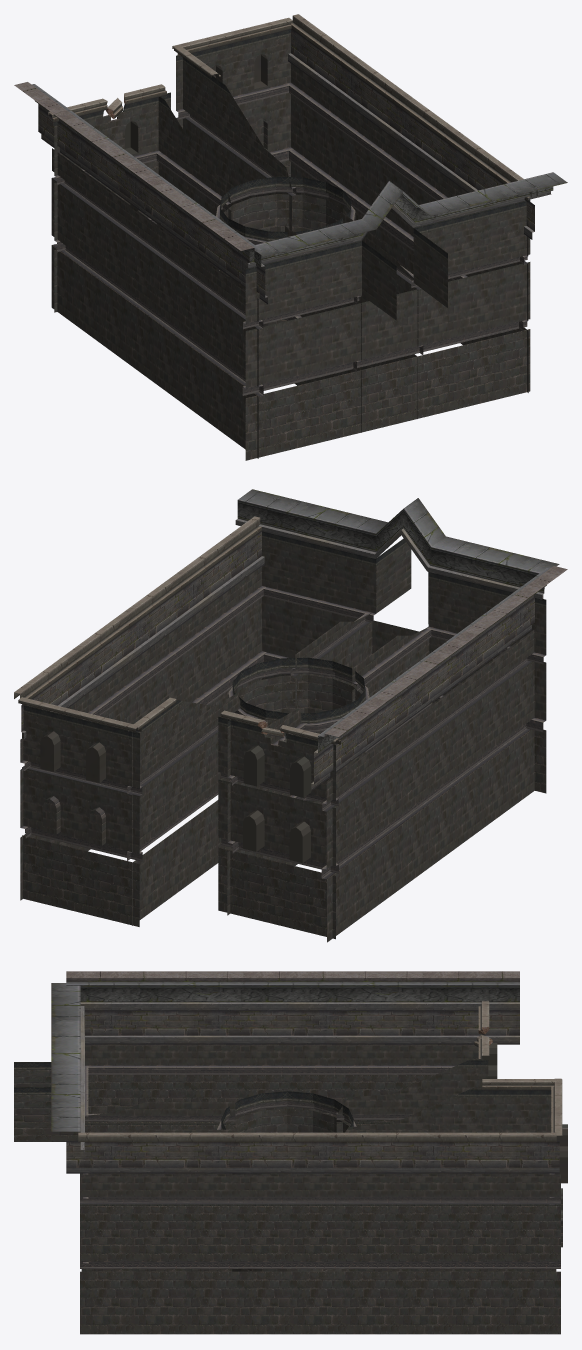
File: qiang.FBX
3 renders of one model, top to bottom at view 1: azimuth 30°, elevation 25°; view 2: azimuth 150°, elevation 25°; view 3: azimuth 270°, elevation 25°, orthographic.
Parts seen in each view (by area): view 1: qianmian, qiang; view 2: qianmian, qiang; view 3: qianmian, qiang.
Boxes of the visible parts, bbox=[...] form: qianmian: bbox=[51, 29, 530, 460]; qiang: bbox=[14, 14, 567, 304]; qianmian: bbox=[20, 531, 546, 942]; qiang: bbox=[14, 489, 567, 790]; qianmian: bbox=[14, 1034, 567, 1334]; qiang: bbox=[51, 971, 562, 1173].
Size of the model in its own units: 4968 by 3658 by 7452.
